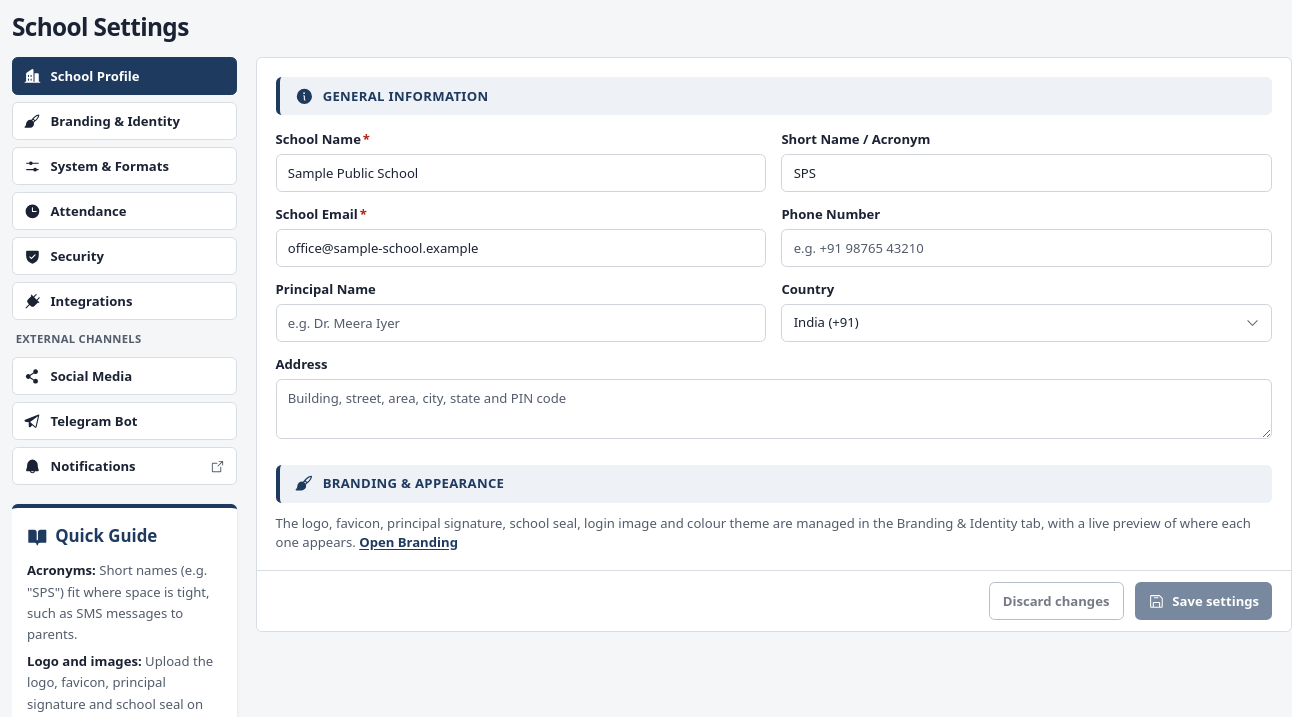
it: SchoolSettingsPage › shows field errors instead of saving invalid values
Step 1. Clear the field labelled "School Name*" → (521, 173), box [276,154,766,192]
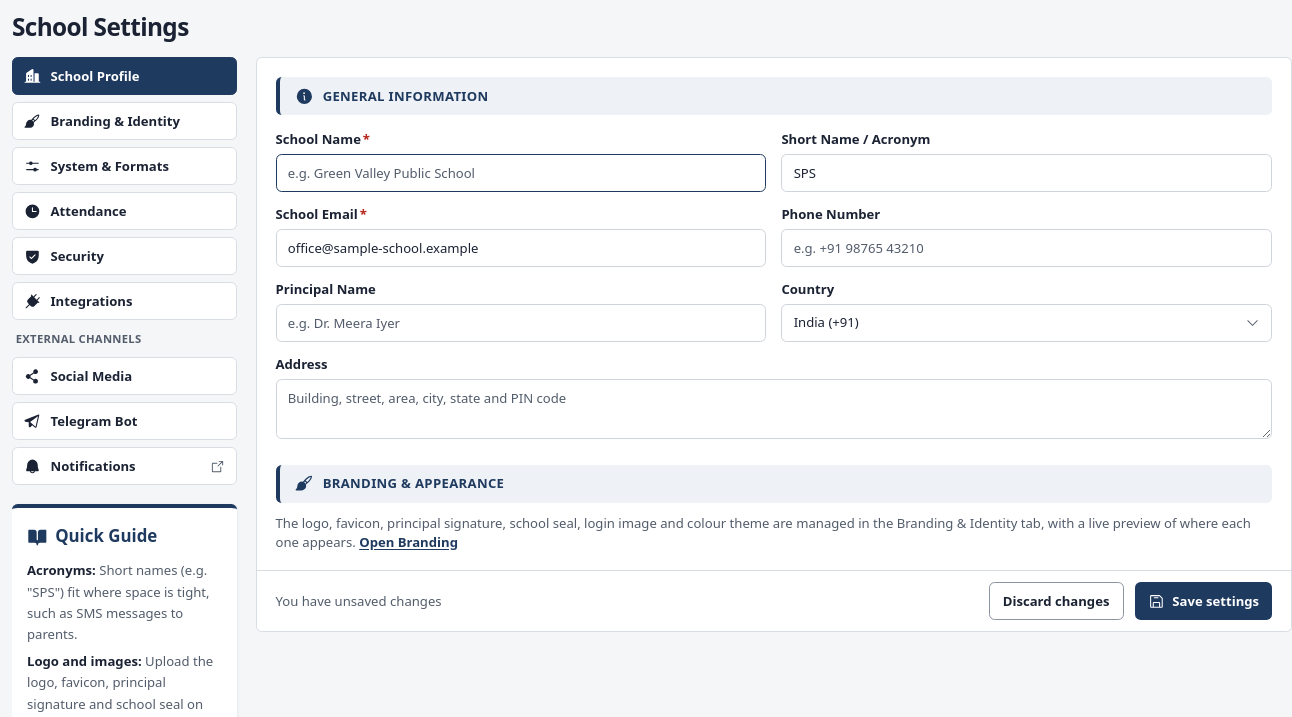
Step 2. Click the button "Save settings" → (1204, 601), box [1135,582,1272,620]
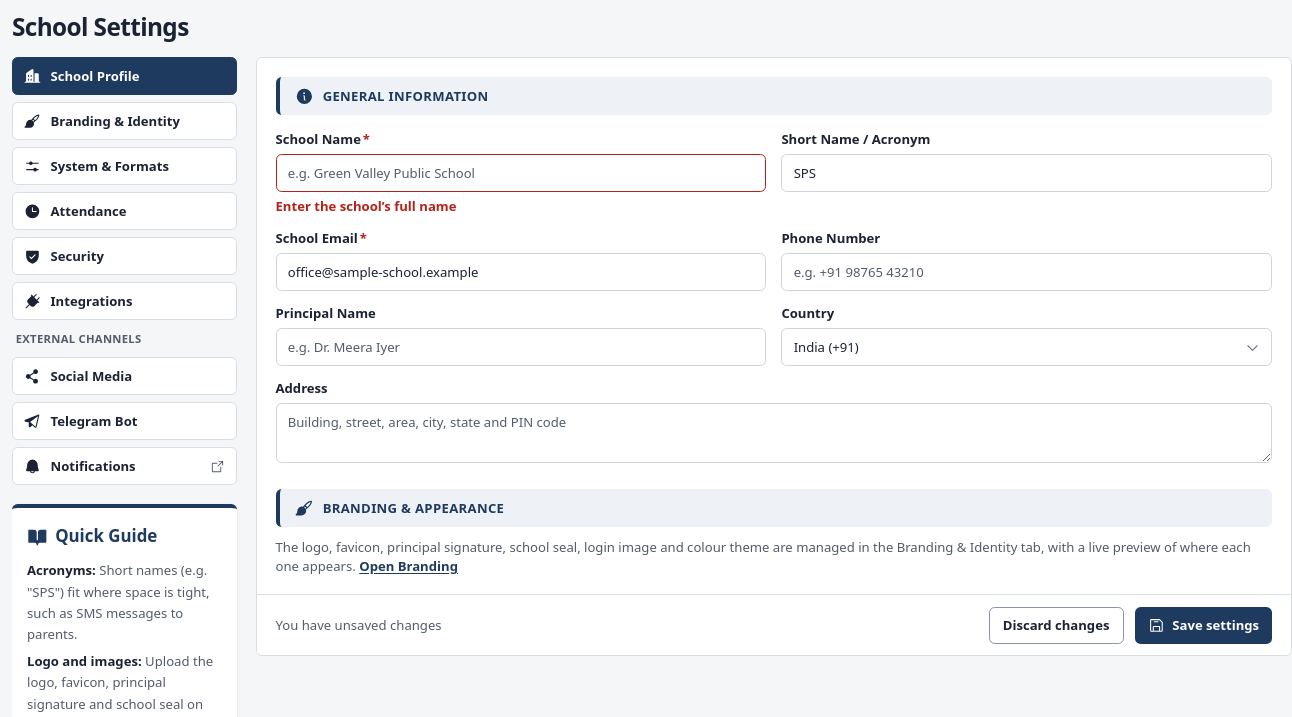
Expected: the text "Enter the school’s full name" is shown, [276,197,456,215]
